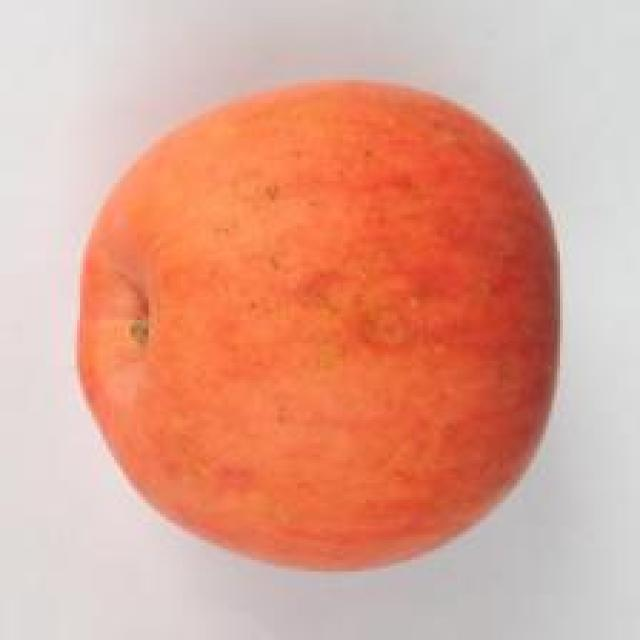apple: (33, 62, 600, 610)
